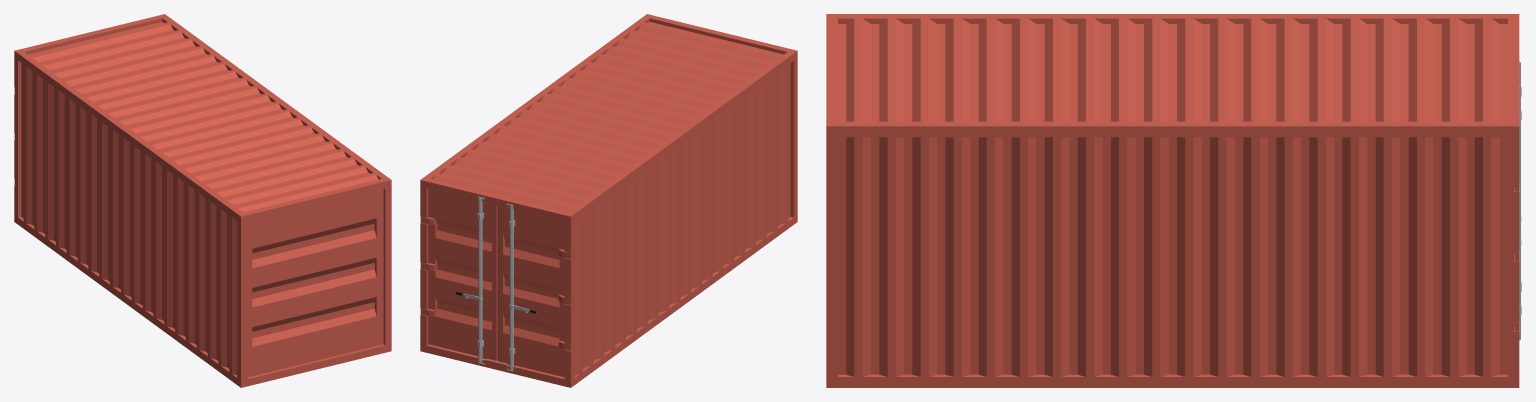
File: uploads_files_2255915_container_prop.fbx
3 renders of one model, left to right at view 1: azimuth 30°, elevation 25°; view 2: azimuth 150°, elevation 25°; view 3: azimuth 270°, elevation 25°, orthographic. The views are drawn at different scales.
Parts seen in each view (by area): view 1: container; view 2: container; view 3: container.
Boxes of the visible parts, bbox=[...] form: container: bbox=[14, 14, 391, 387]; container: bbox=[420, 14, 797, 387]; container: bbox=[826, 14, 1521, 387].
Size of the model in its own units: 230 by 250 by 602.
